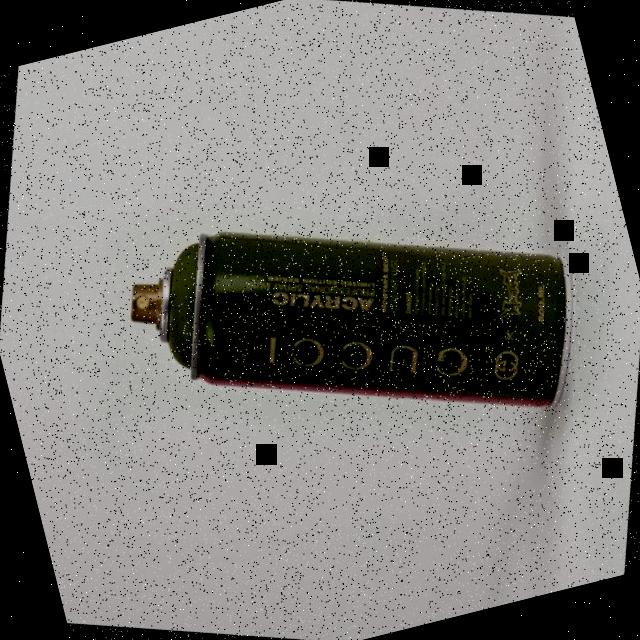chemical_spray_can: (58, 90, 638, 561)
